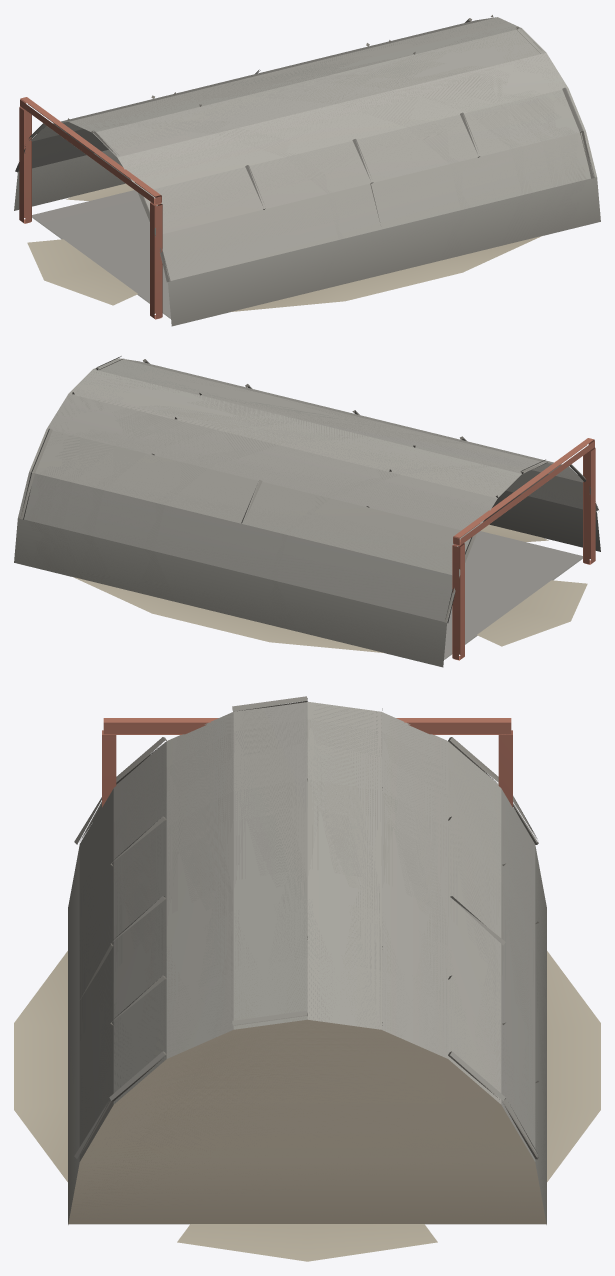
The model's file is hangar.lod.glb.
3 renders of one model, top to bottom at view 1: azimuth 30°, elevation 25°; view 2: azimuth 150°, elevation 25°; view 3: azimuth 270°, elevation 25°, orthographic. The views are drawn at different scales.
Visible parts, largest first — view 1: hangar; view 2: hangar; view 3: hangar.
Boxes of the visible parts, bbox=[...] form: hangar: bbox=[14, 15, 600, 326]; hangar: bbox=[14, 356, 600, 667]; hangar: bbox=[14, 696, 600, 1261].
Bounding box in the file's own units: 27 × 6.87 × 17.16.
